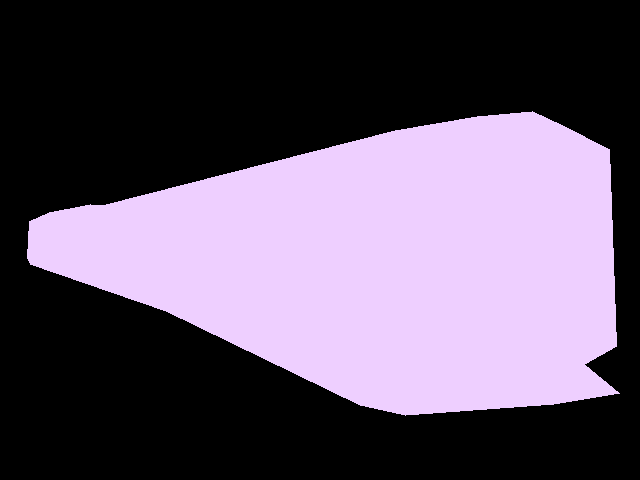Train: (27, 111, 619, 416)
